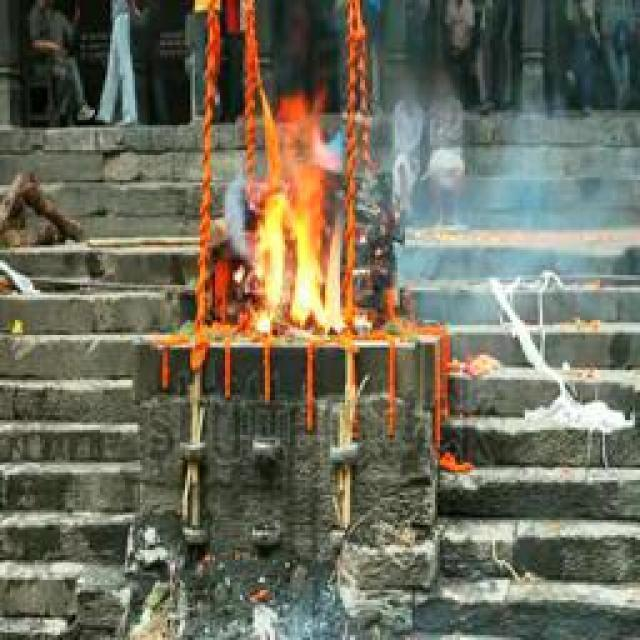Fire: (246, 96, 354, 336)
